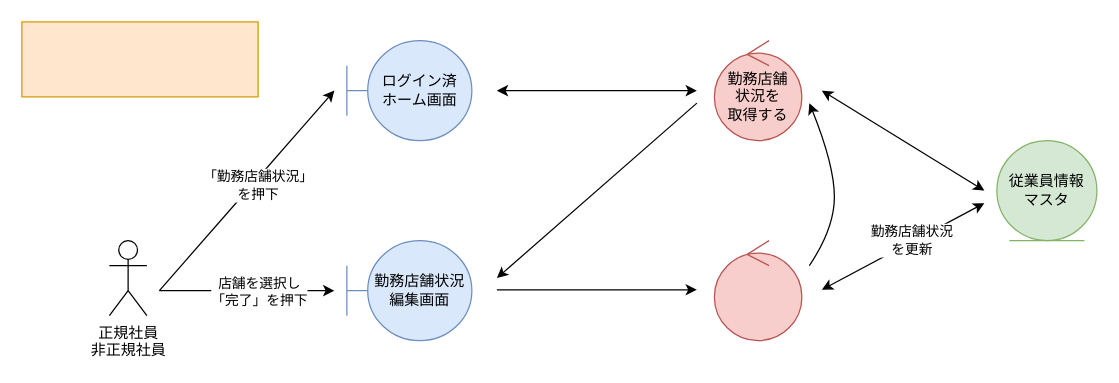
Some shapes in this 1119 by 383 pixel diagram are drawn without their labels. The shapes that lost their labels are listed below. From the top down, each one's centre as x and y in pixels, then its label:
At point (139, 59): "勤務店舗状況編集".
At point (757, 290): "更新する".
